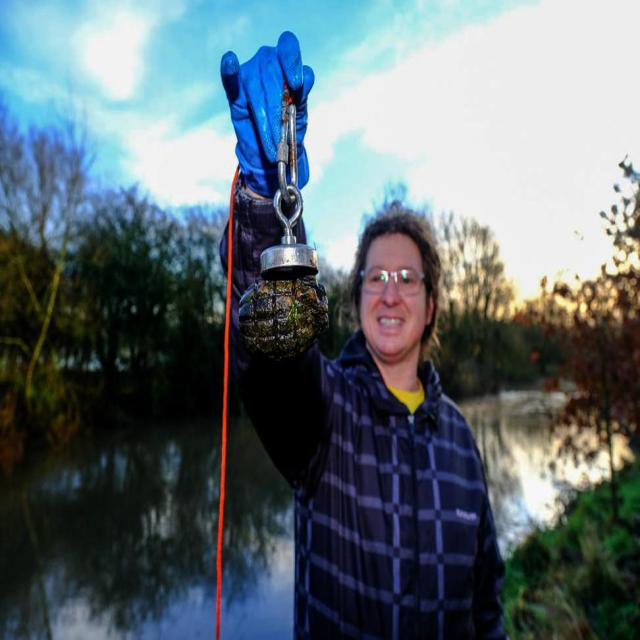grenade: (239, 280, 330, 361)
